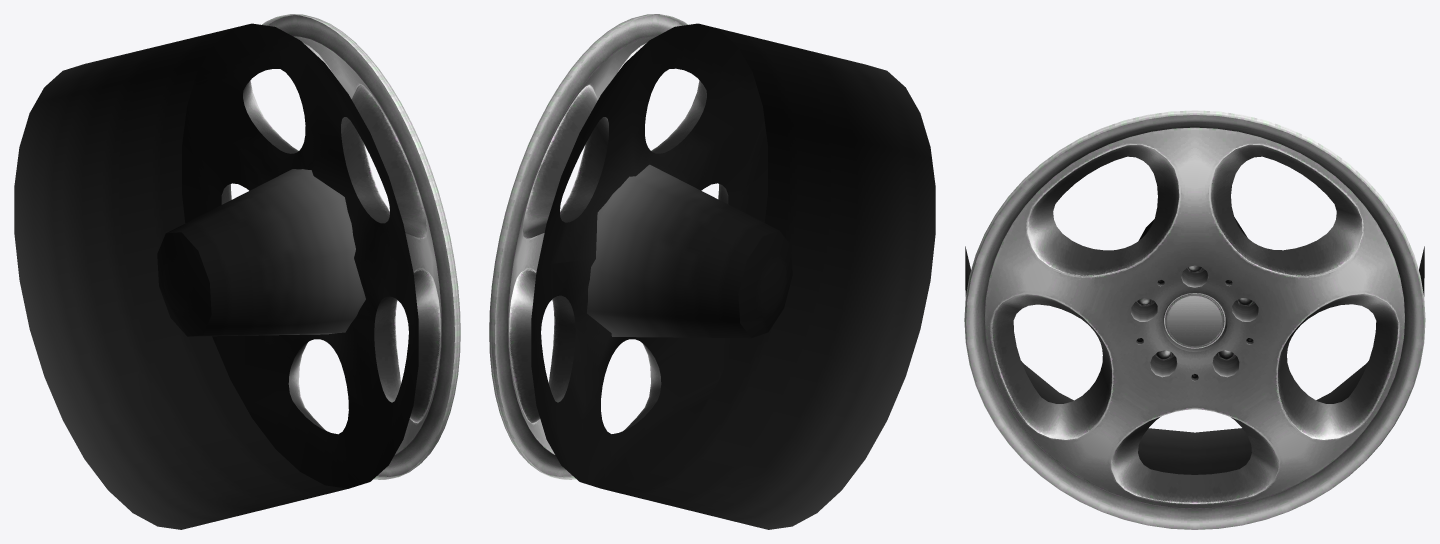
The model's file is wheel30.fbx.
The picture shows the model from 3 angles, left to right: view 1: azimuth 30°, elevation 25°; view 2: azimuth 150°, elevation 25°; view 3: azimuth 270°, elevation 25°; orthographic projection. The views are drawn at different scales.
Parts seen in each view (by area): view 1: bra_monoblockiv_wheel_wheel_inner_rim_, bra_monoblockiv_wheel_wheel_rim_, wheel_rim; view 2: bra_monoblockiv_wheel_wheel_inner_rim_, bra_monoblockiv_wheel_wheel_rim_, wheel_rim; view 3: bra_monoblockiv_wheel_wheel_rim_, wheel_rim, bra_monoblockiv_wheel_wheel_inner_rim_, bra_monoblockiv_wheel_wheel_chrome_rim_.
Boxes of the visible parts, bbox=[...] form: bra_monoblockiv_wheel_wheel_inner_rim_: bbox=[14, 23, 418, 529]; bra_monoblockiv_wheel_wheel_rim_: bbox=[221, 14, 458, 479]; wheel_rim: bbox=[268, 14, 460, 477]; bra_monoblockiv_wheel_wheel_inner_rim_: bbox=[531, 23, 935, 529]; bra_monoblockiv_wheel_wheel_rim_: bbox=[491, 14, 728, 479]; wheel_rim: bbox=[489, 14, 681, 477]; bra_monoblockiv_wheel_wheel_rim_: bbox=[964, 110, 1425, 508]; wheel_rim: bbox=[964, 112, 1425, 529]; bra_monoblockiv_wheel_wheel_inner_rim_: bbox=[965, 217, 1424, 474]; bra_monoblockiv_wheel_wheel_chrome_rim_: bbox=[1164, 293, 1225, 348].
Size of the model in its own units: 0.2435 by 0.4563 by 0.4556.
Materials: 1 (1 with a texture image).
